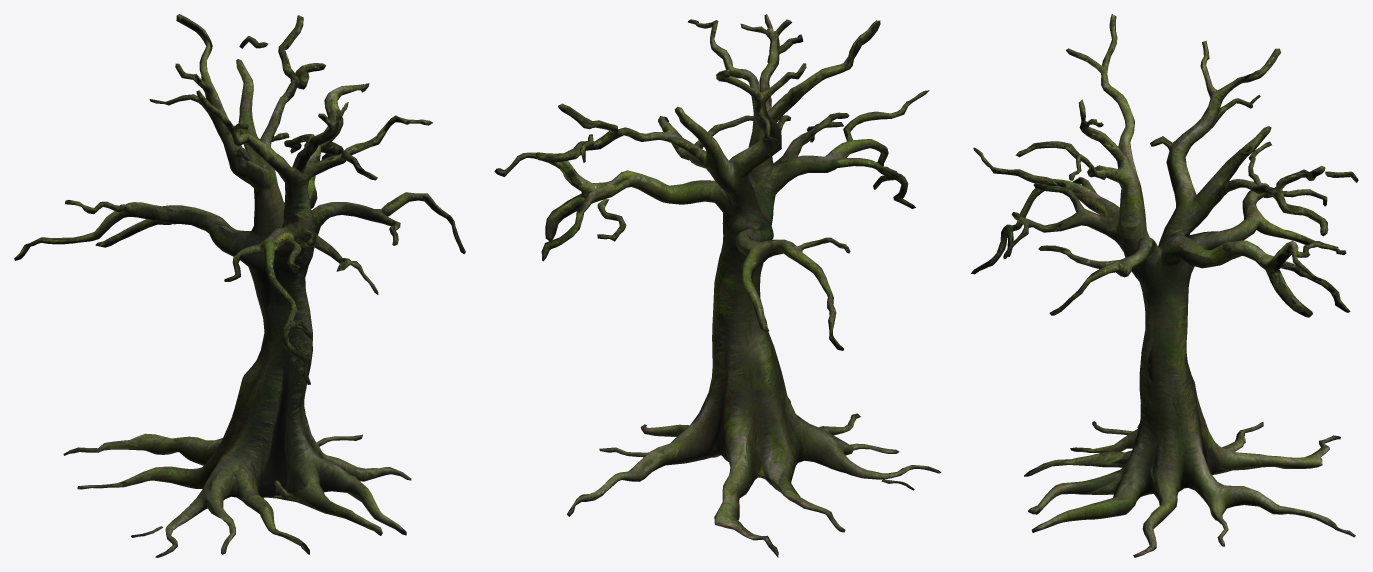
The model's file is sinRama.fbx.
3 views of the same model, side by side, from view 1: azimuth 30°, elevation 25°; view 2: azimuth 150°, elevation 25°; view 3: azimuth 270°, elevation 25° (orthographic). The views are drawn at different scales.
Parts seen in each view (by area): view 1: Mesh1.0; view 2: Mesh1.0; view 3: Mesh1.0.
Boxes of the visible parts, box(x1,y1,x2,y2) form: Mesh1.0: box(14, 14, 465, 557); Mesh1.0: box(494, 14, 941, 557); Mesh1.0: box(971, 14, 1358, 557).
Bounding box in the file's own units: 163 × 202 × 161.
1 material, 1 textured.
